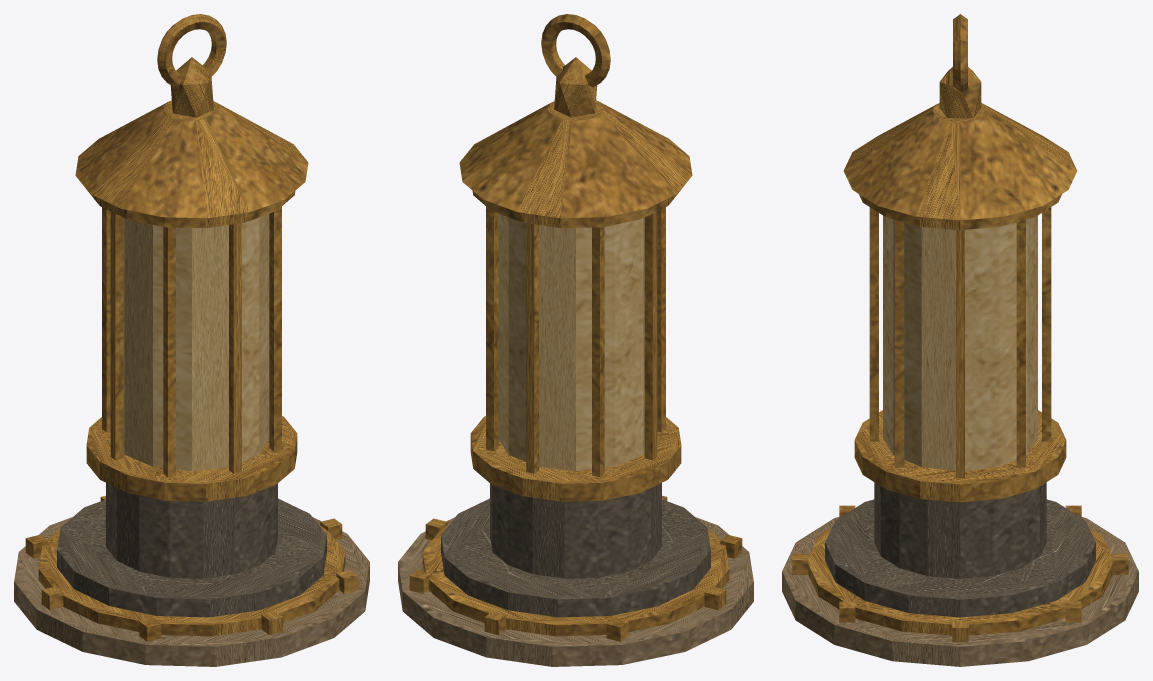
Rendered from preserve-last-lantern.glb.
3 views of the same model, side by side, from view 1: azimuth 30°, elevation 25°; view 2: azimuth 150°, elevation 25°; view 3: azimuth 270°, elevation 25° (orthographic).
Visible parts, largest first — view 1: preserve-last-lantern; view 2: preserve-last-lantern; view 3: preserve-last-lantern.
Boxes of the visible parts, bbox=[...] form: preserve-last-lantern: bbox=[14, 14, 369, 666]; preserve-last-lantern: bbox=[398, 14, 753, 666]; preserve-last-lantern: bbox=[782, 14, 1138, 666].
Bounding box in the file's own units: 2.9 × 5.14 × 2.9.
1 material, 1 textured.
